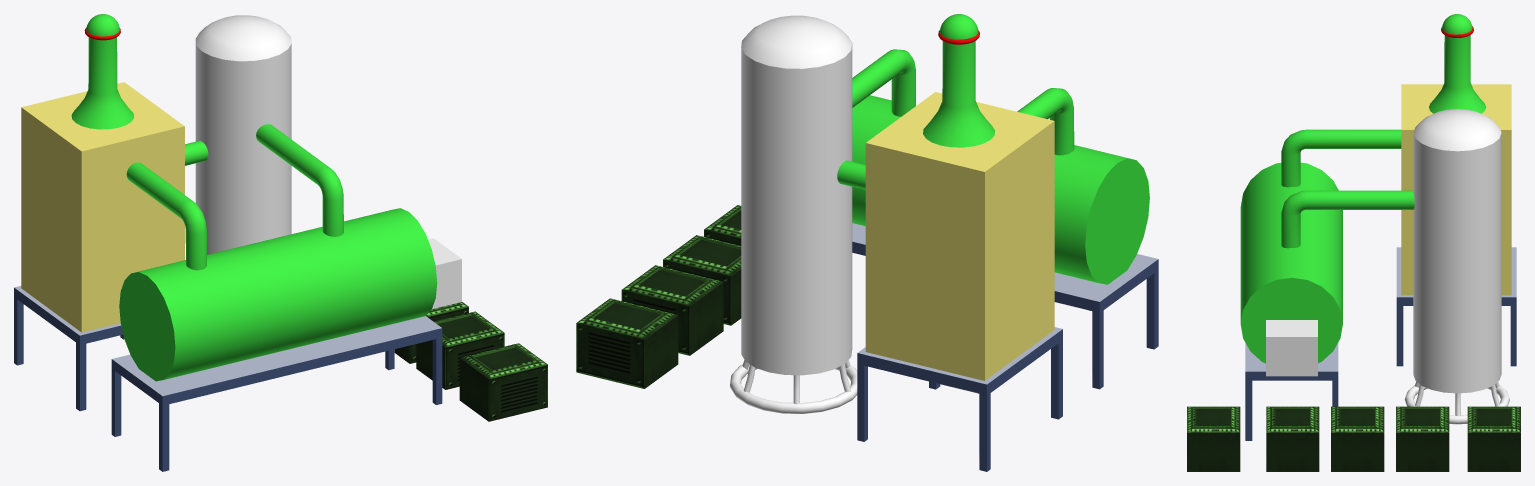
File: BiodegradableFactory_stage2.fbx
3 renders of one model, left to right at view 1: azimuth 30°, elevation 25°; view 2: azimuth 150°, elevation 25°; view 3: azimuth 270°, elevation 25°, orthographic. The views are drawn at different scales.
Parts seen in each view (by area): view 1: polySurface54; view 2: polySurface54; view 3: polySurface54.
Part boxes in pixels (box(x1,y1,x2,y2)): polySurface54: box(14, 14, 547, 471); polySurface54: box(576, 14, 1158, 471); polySurface54: box(1187, 14, 1520, 471).
Bounding box in the file's own units: 42.21 × 40.83 × 37.89.
7 materials, 7 textured.
